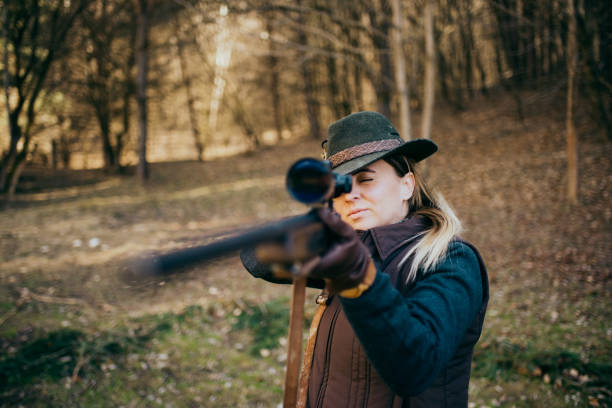gun: (117, 156, 356, 289)
